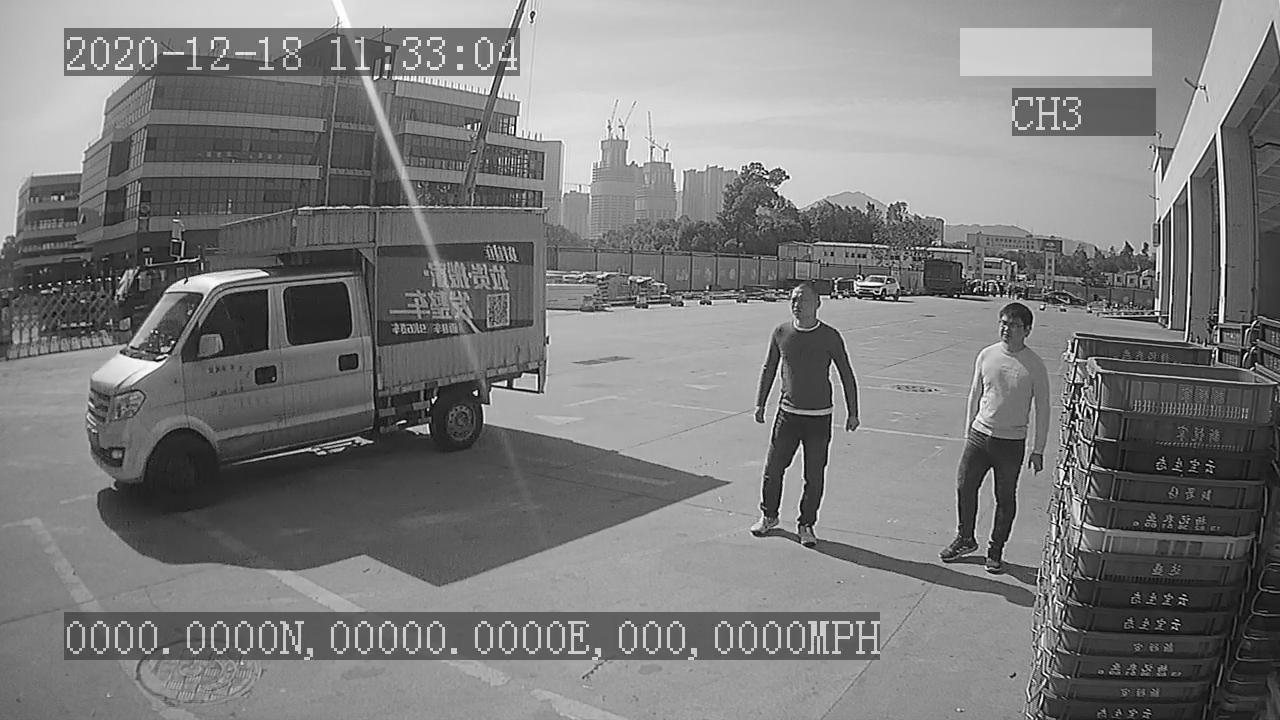person: (754, 276, 860, 550)
